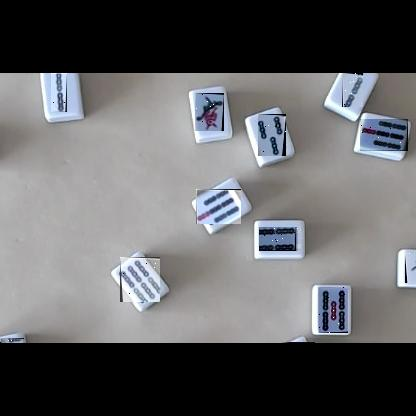1s: (195, 93, 224, 131), (405, 253, 416, 283)
2s: (342, 73, 363, 107), (51, 73, 67, 112)
3s: (258, 114, 286, 156)
4s: (260, 227, 301, 251)
5s: (318, 287, 348, 333), (279, 342, 315, 343)
6s: (120, 257, 160, 302)
7s: (196, 189, 241, 224), (360, 119, 408, 151)
8s: (0, 338, 24, 343)
